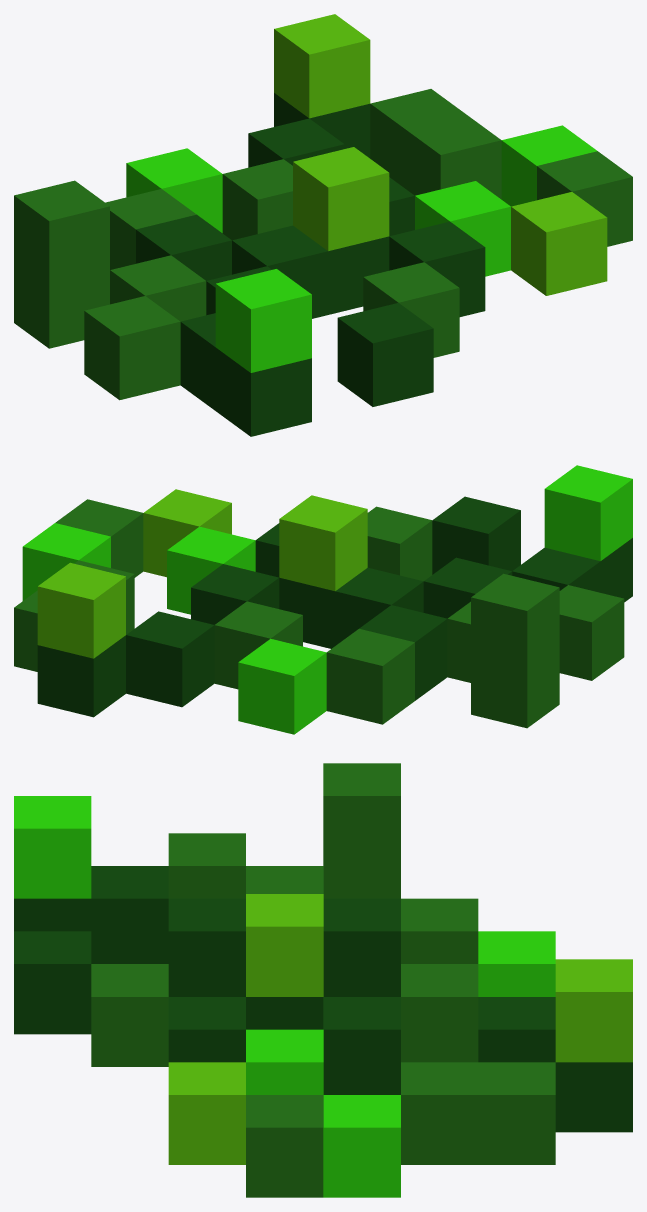
Rendered from Foliage2.fbx.
The picture shows the model from 3 angles, top to bottom: view 1: azimuth 30°, elevation 25°; view 2: azimuth 150°, elevation 25°; view 3: azimuth 270°, elevation 25°; orthographic projection. The views are drawn at different scales.
Visible parts, largest first — view 1: Enviroment 2.002; view 2: Enviroment 2.002; view 3: Enviroment 2.002.
Part boxes in pixels (left/top/right/bottom): Enviroment 2.002: left=14, top=14, right=632, bottom=436; Enviroment 2.002: left=14, top=465, right=632, bottom=734; Enviroment 2.002: left=14, top=763, right=632, bottom=1197.
Bounding box in the file's own units: 0.9 × 0.2 × 0.8.
